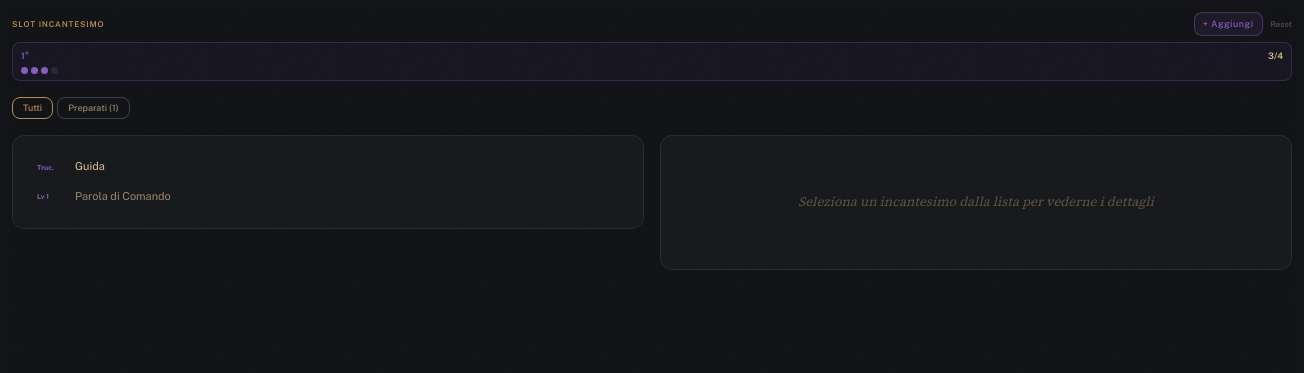
Test case: SpellsTab › shows spell details when a row is selected
This screenshot has width=1304, height=373.
Click the text "Guida" at {"x": 90, "y": 166}, box x1=75 y1=160 x2=105 y2=172
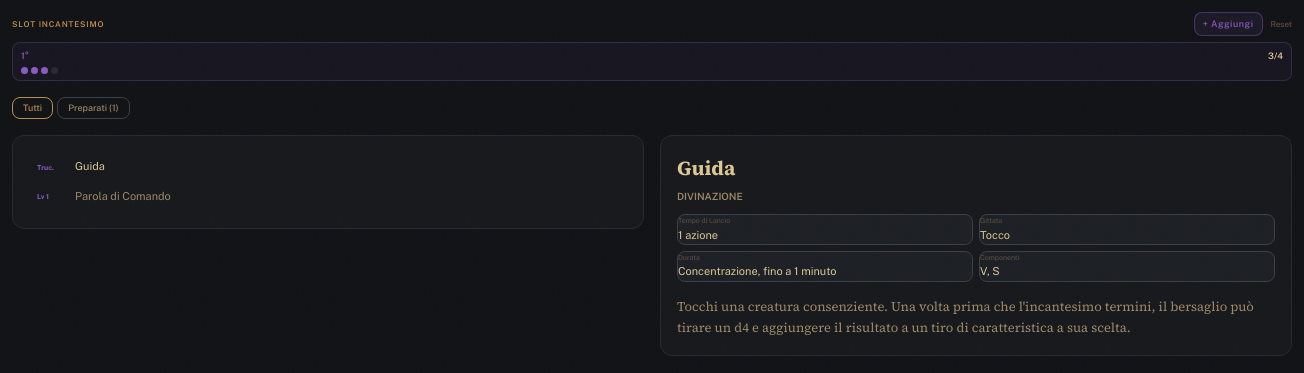
Check: the text "Divinazione" is shown, box x1=677 y1=190 x2=743 y2=202
